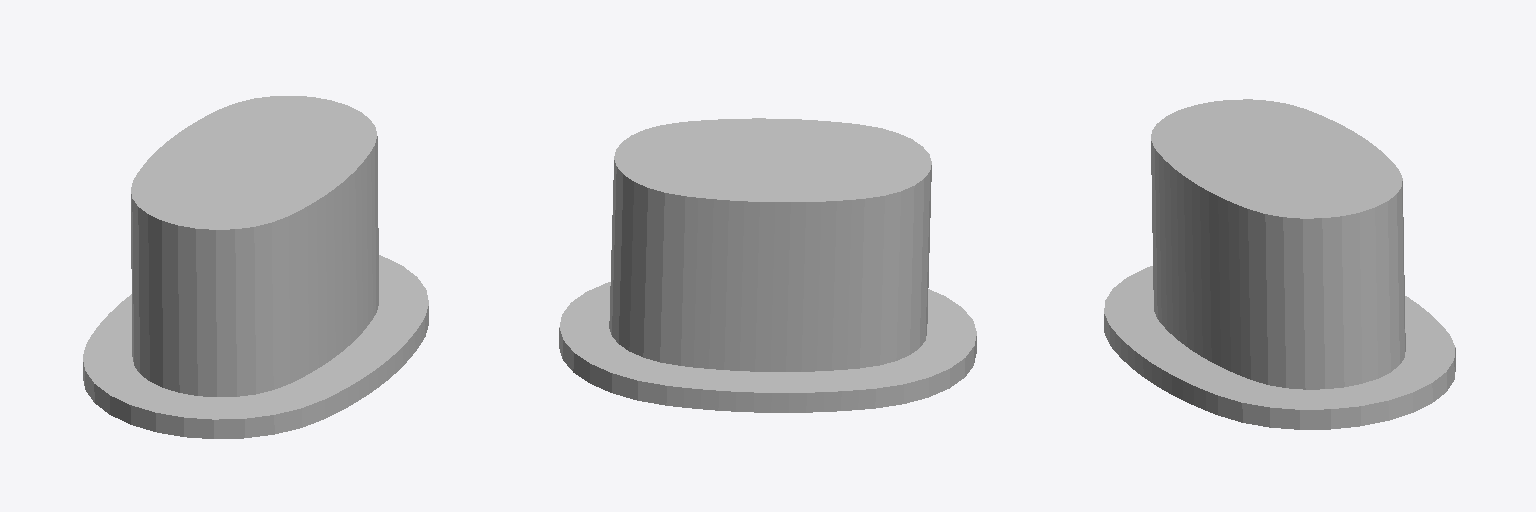
The model's file is Hat.obj.
3 views of the same model, side by side, from view 1: azimuth 30°, elevation 25°; view 2: azimuth 150°, elevation 25°; view 3: azimuth 270°, elevation 25° (orthographic).
Visible parts, largest first — view 1: Monopoly; view 2: Monopoly; view 3: Monopoly.
Boxes of the visible parts, x1=… form: Monopoly: x1=83, y1=96, x2=428, y2=438; Monopoly: x1=559, y1=118, x2=976, y2=412; Monopoly: x1=1104, y1=99, x2=1455, y2=429.
Size of the model in its own units: 1.4 by 0.7727 by 1.25.